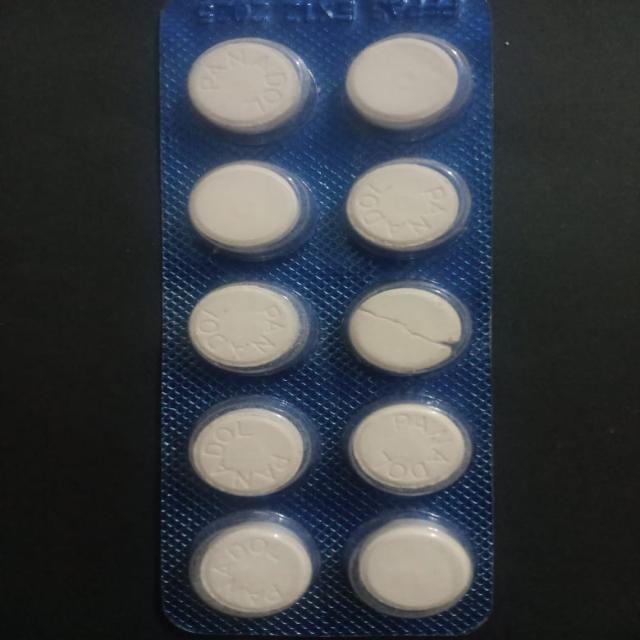defect: (338, 274, 477, 381)
